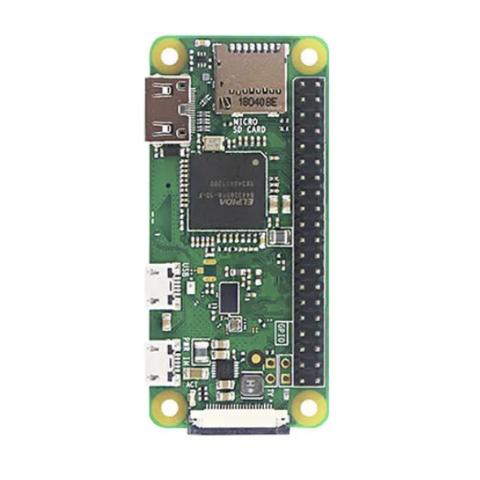Raspberry-Pi-Zero-WH: (142, 36, 330, 436)
